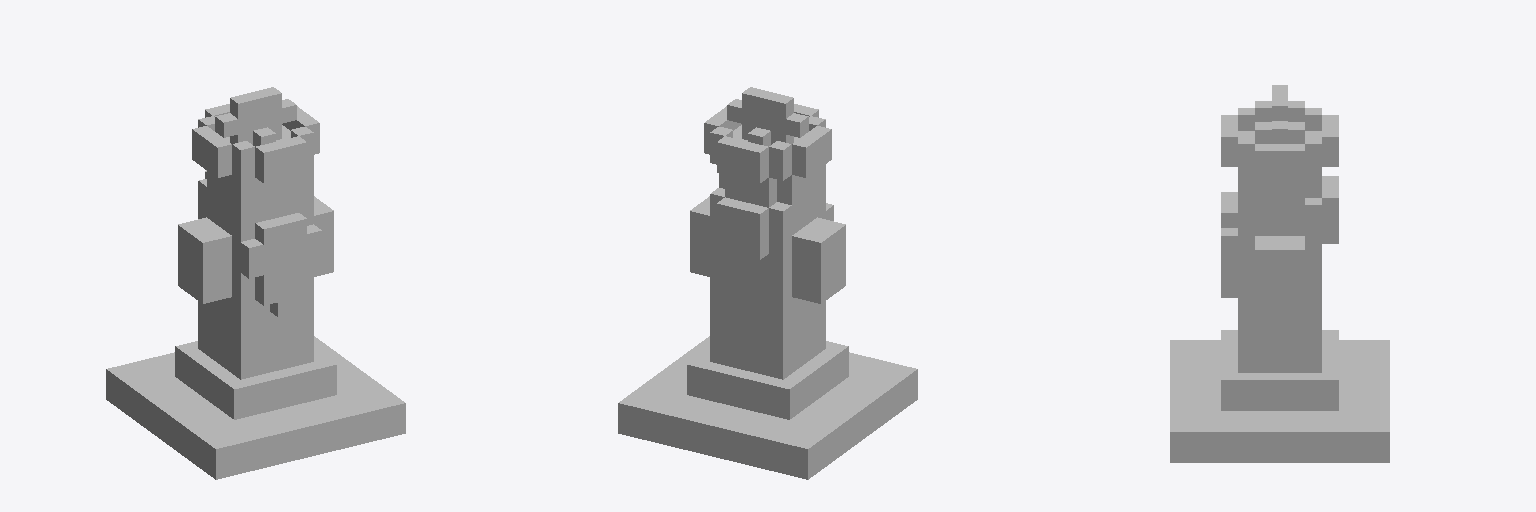
The model's file is king.obj.
3 views of the same model, side by side, from view 1: azimuth 30°, elevation 25°; view 2: azimuth 150°, elevation 25°; view 3: azimuth 270°, elevation 25° (orthographic).
Visible parts, largest first — view 1: king; view 2: king; view 3: king.
Boxes of the visible parts, x1=… form: king: x1=106, y1=87, x2=405, y2=479; king: x1=618, y1=87, x2=917, y2=479; king: x1=1170, y1=85, x2=1389, y2=462.
Bounding box in the file's own units: 13 × 21 × 13.